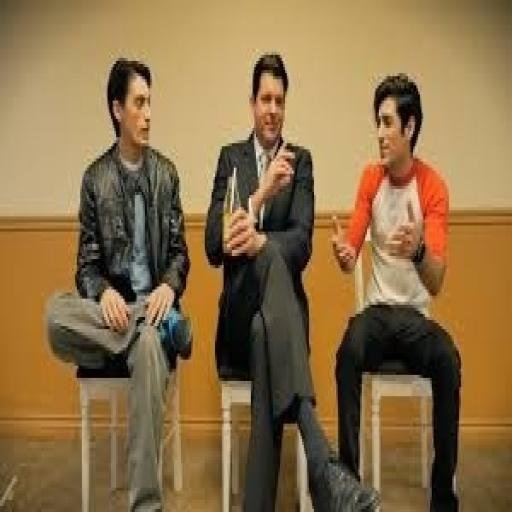sitting: (43, 46, 464, 506), (203, 49, 382, 509), (44, 55, 193, 509), (330, 70, 464, 509)
